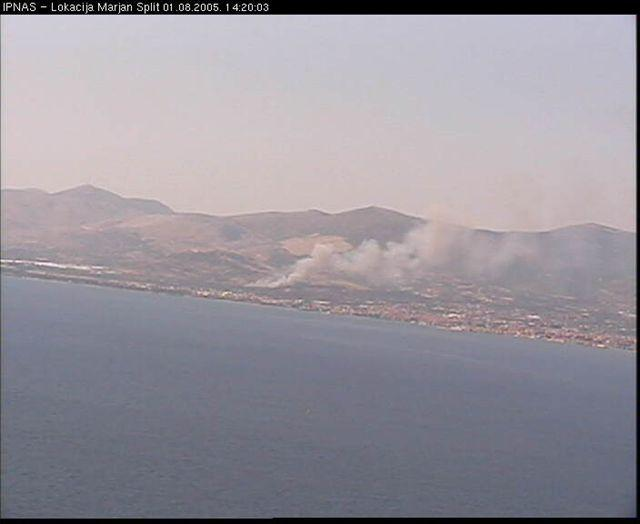Smoke: (234, 194, 596, 287)
